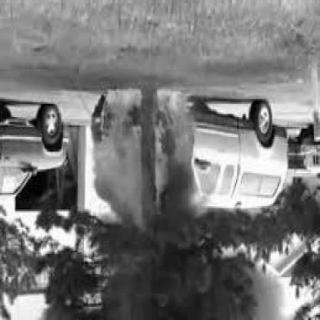Fire: (98, 90, 145, 204), (152, 91, 192, 215)
Smoke: (60, 222, 244, 316)
